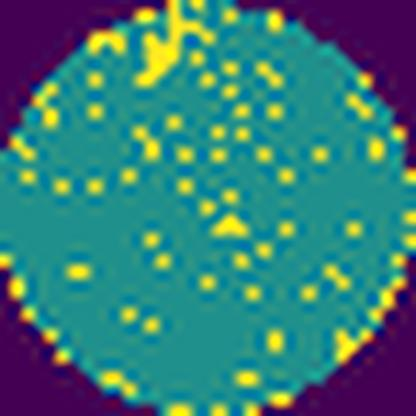Loc: (130, 0, 214, 89)
